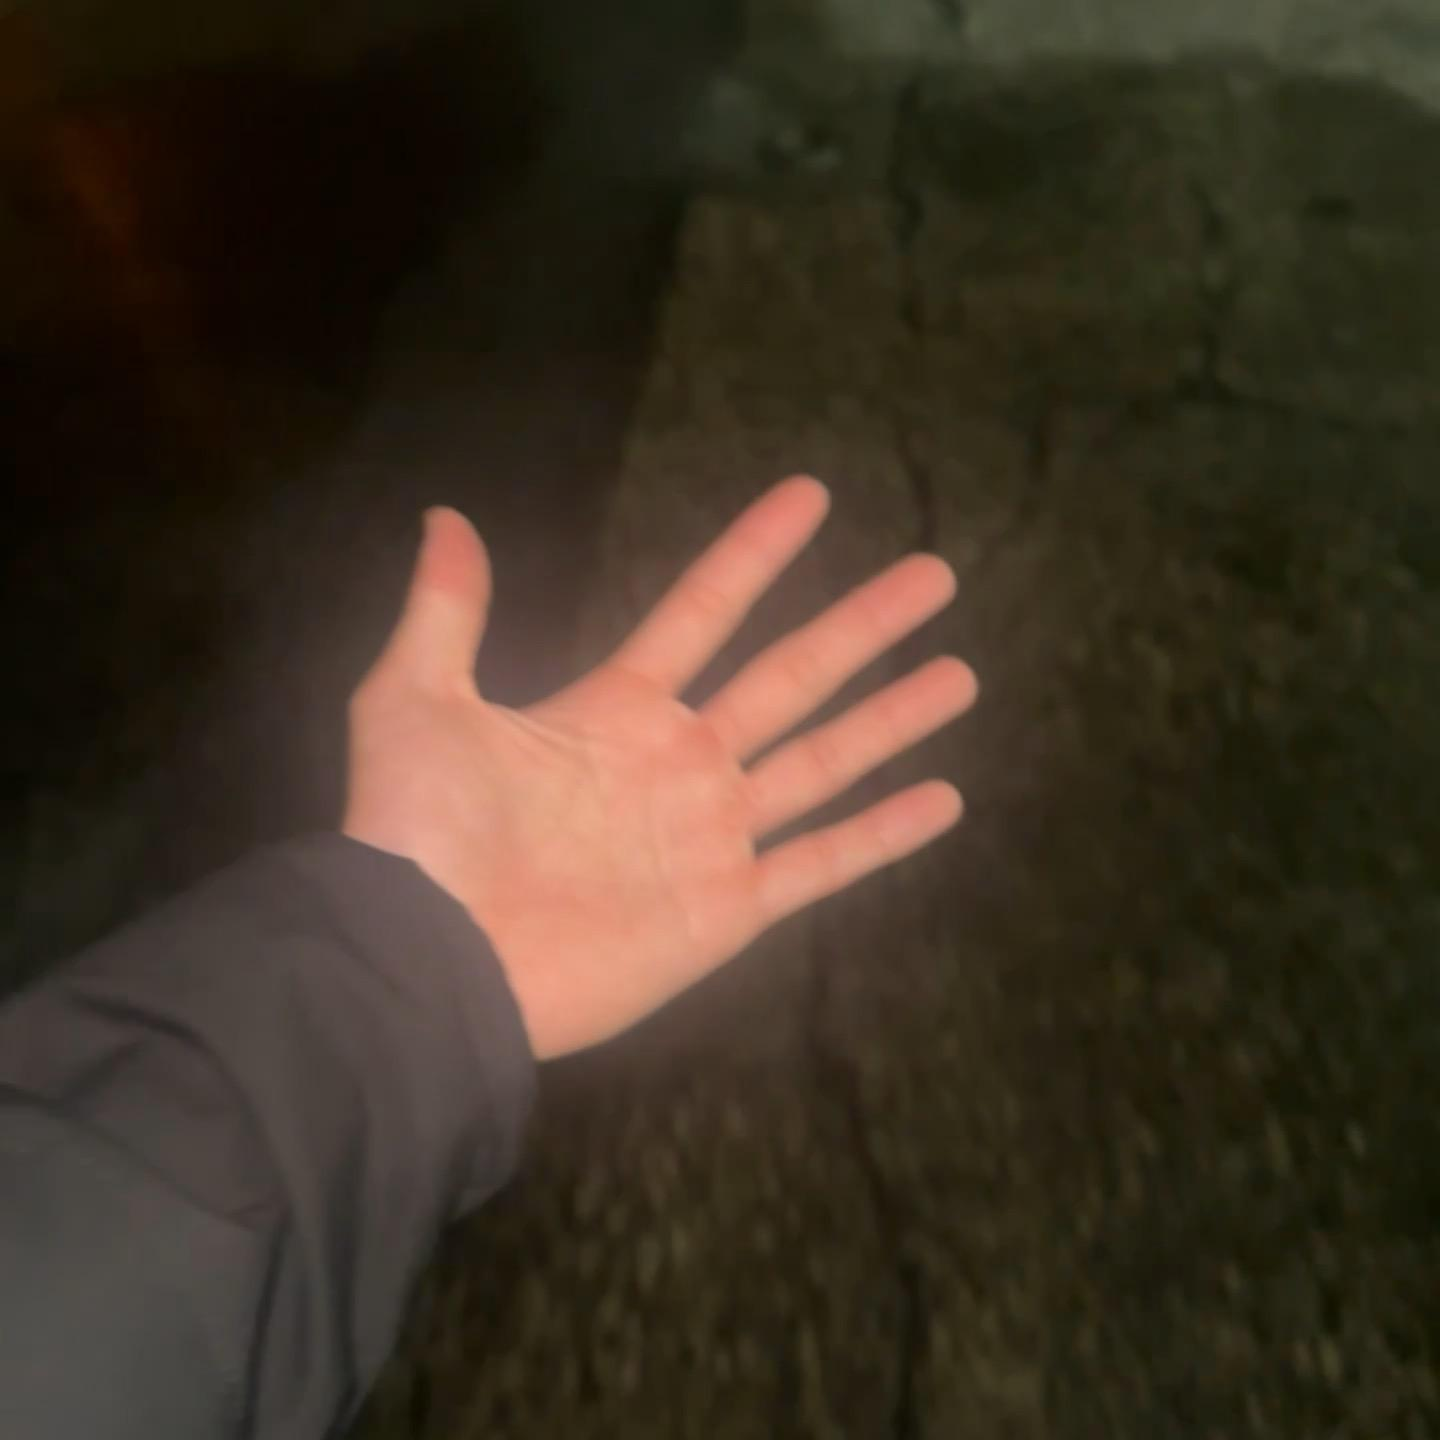without_gloves: (335, 360, 1184, 1083)
